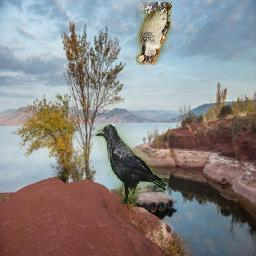Crow: (96, 124, 167, 204)
Sparrow: (136, 3, 172, 66)
